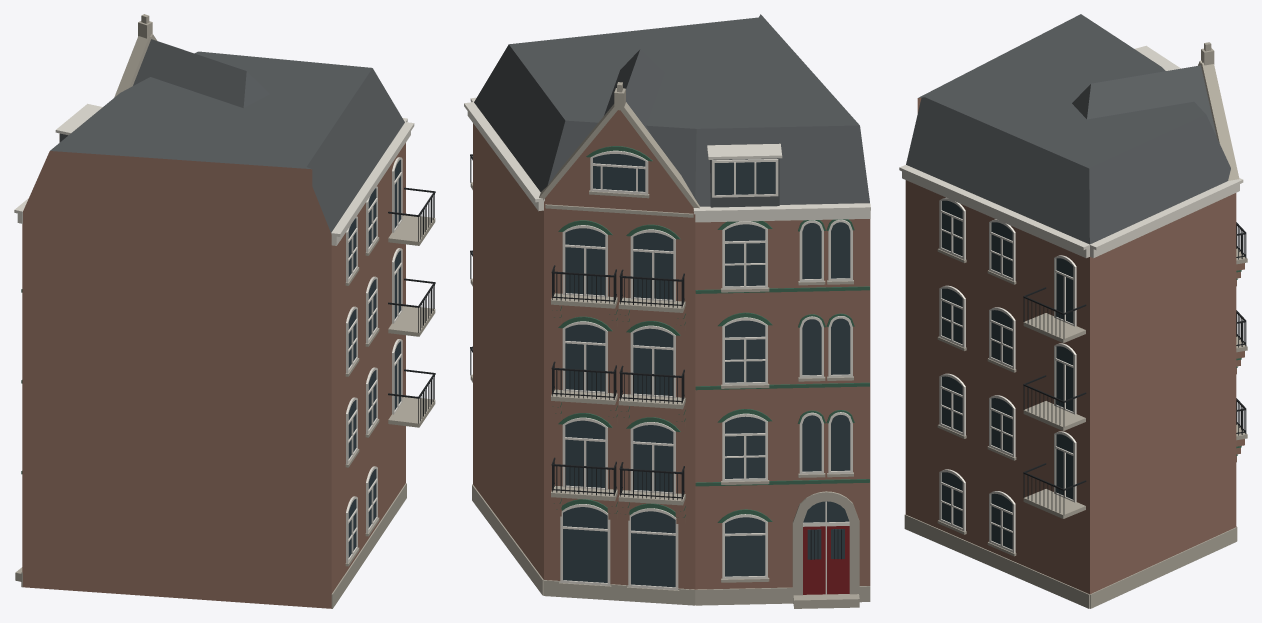
The model's file is da-costakade-13.glb.
3 renders of one model, left to right at view 1: azimuth 30°, elevation 25°; view 2: azimuth 150°, elevation 25°; view 3: azimuth 270°, elevation 25°, orthographic. The views are drawn at different scales.
Visible parts, largest first — view 1: da-costakade-13; view 2: da-costakade-13; view 3: da-costakade-13.
Boxes of the visible parts, x1=… form: da-costakade-13: x1=14, y1=14, x2=435, y2=608; da-costakade-13: x1=464, y1=14, x2=870, y2=608; da-costakade-13: x1=899, y1=14, x2=1247, y2=608.
Bounding box in the file's own units: 15.66 × 18.2 × 12.2.
